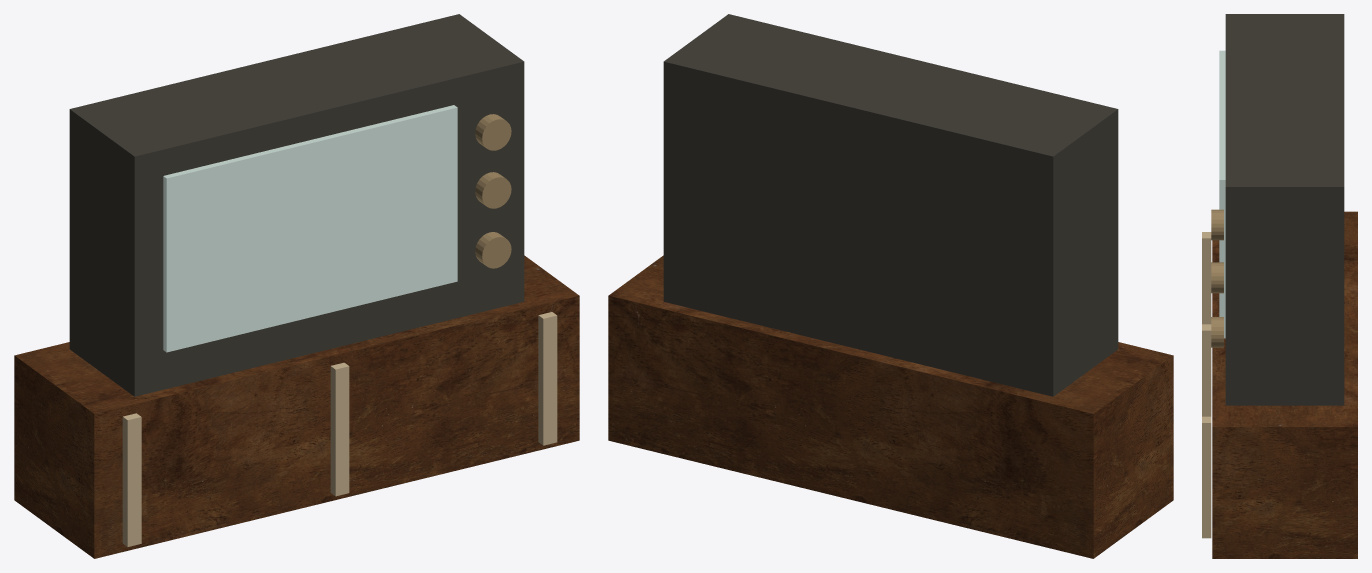
Rendered from living-tv-rebuilt.glb.
3 renders of one model, left to right at view 1: azimuth 30°, elevation 25°; view 2: azimuth 150°, elevation 25°; view 3: azimuth 270°, elevation 25°, orthographic. The views are drawn at different scales.
Visible parts, largest first — view 1: 电视柜主体, 电视机外壳, 电视屏幕, 柜门竖饰.001, 柜门竖饰, 柜门竖饰.002, 电视旋钮.001, 电视旋钮.002, 电视旋钮; view 2: 电视机外壳, 电视柜主体; view 3: 电视机外壳, 电视柜主体, 电视屏幕, 柜门竖饰.002, 柜门竖饰.001, 柜门竖饰, 电视旋钮.001, 电视旋钮.002, 电视旋钮.
Part boxes in pixels (bbox=[...]): 电视柜主体: bbox=[14, 255, 579, 558]; 电视机外壳: bbox=[69, 14, 524, 396]; 电视屏幕: bbox=[163, 105, 457, 352]; 柜门竖饰.001: bbox=[330, 362, 349, 496]; 柜门竖饰: bbox=[122, 413, 141, 546]; 柜门竖饰.002: bbox=[538, 312, 557, 445]; 电视旋钮.001: bbox=[475, 172, 511, 208]; 电视旋钮.002: bbox=[475, 114, 511, 150]; 电视旋钮: bbox=[475, 232, 511, 268]; 电视机外壳: bbox=[663, 14, 1118, 396]; 电视柜主体: bbox=[608, 255, 1173, 558]; 电视机外壳: bbox=[1225, 14, 1344, 405]; 电视柜主体: bbox=[1212, 211, 1357, 558]; 电视屏幕: bbox=[1219, 50, 1225, 338]; 柜门竖饰.002: bbox=[1202, 416, 1211, 538]; 柜门竖饰.001: bbox=[1202, 324, 1211, 416]; 柜门竖饰: bbox=[1202, 232, 1211, 324]; 电视旋钮.001: bbox=[1211, 262, 1223, 293]; 电视旋钮.002: bbox=[1211, 209, 1223, 240]; 电视旋钮: bbox=[1211, 317, 1223, 347].
Bounding box in the file's own units: 2.8 × 2.13 × 0.855.
Materials: 5 (1 with a texture image).
